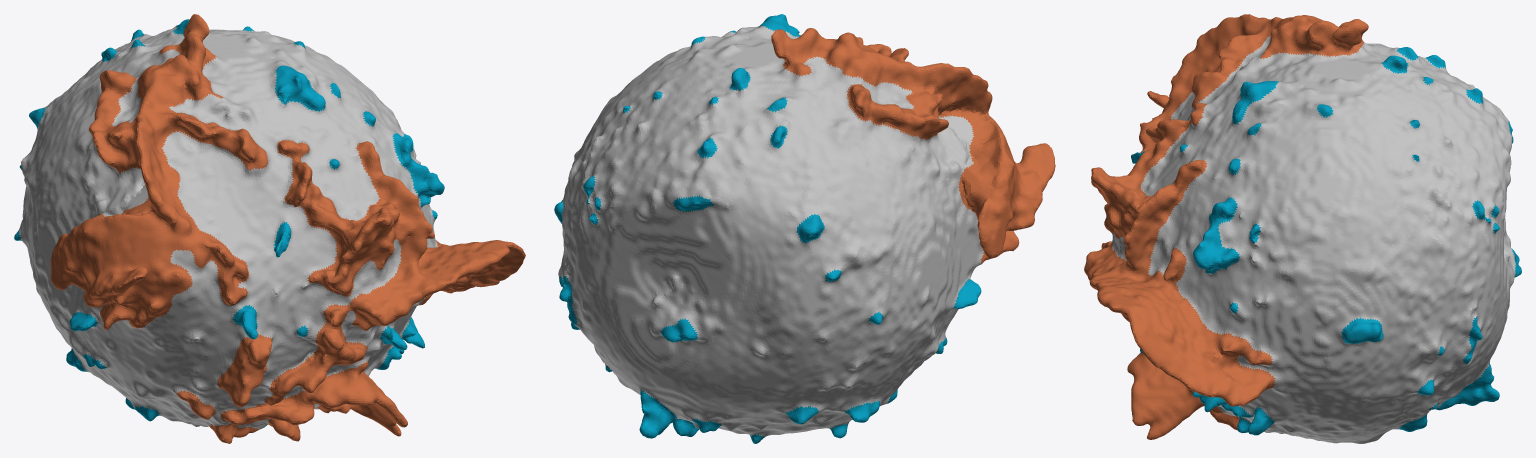
The picture shows the model from 3 angles, left to right: view 1: azimuth 30°, elevation 25°; view 2: azimuth 150°, elevation 25°; view 3: azimuth 270°, elevation 25°; orthographic projection. The views are drawn at different scales.
Bounding box in the file's own units: 167 × 156 × 158.
